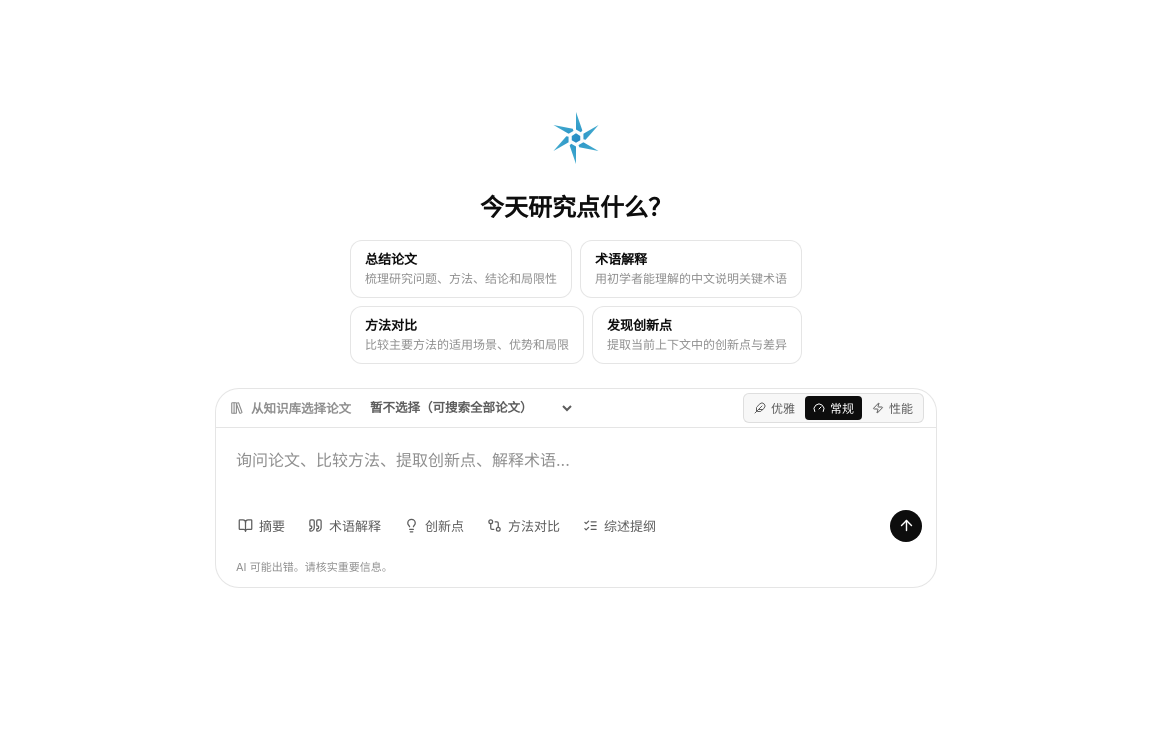
Test: ChatPage › renders GFM tables in assistant Markdown
The image size is (1152, 732).
Type "比较三篇论文" into the text box with placeholder "询问论文、比较方法、提取创新点、解释术语..." at (576, 469), box [216,428,936,510]
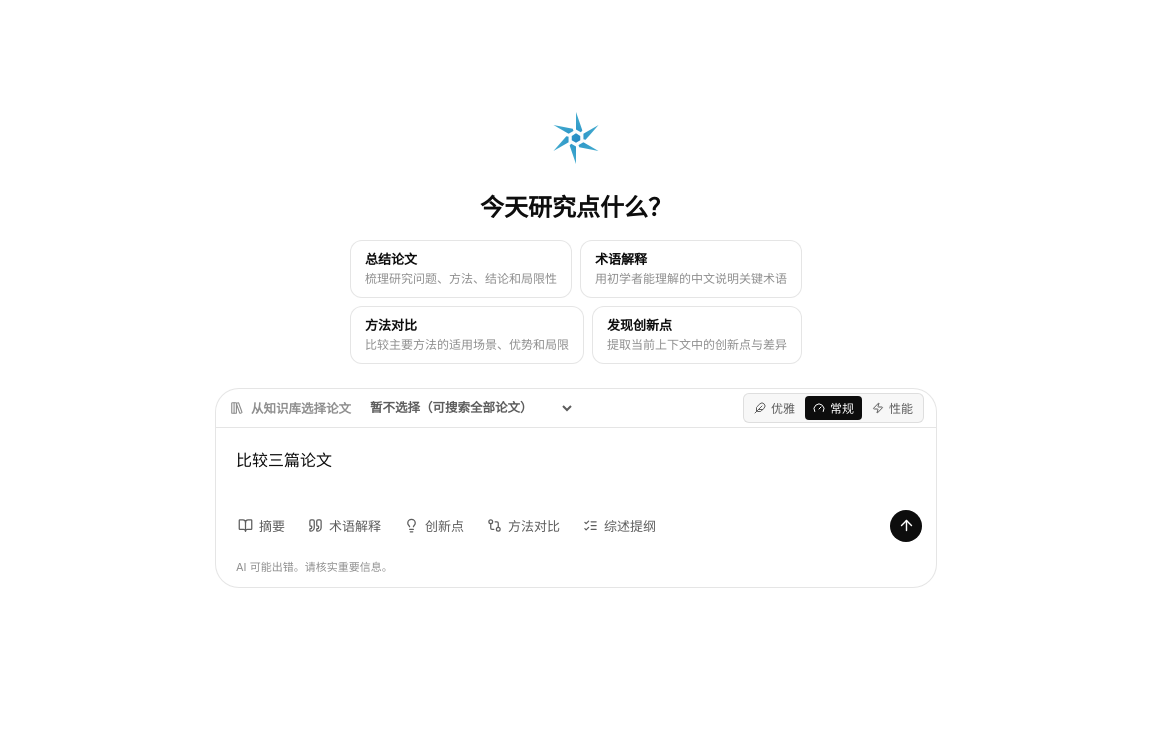
Click the button named "发送" at (906, 526), box [890,510,922,542]
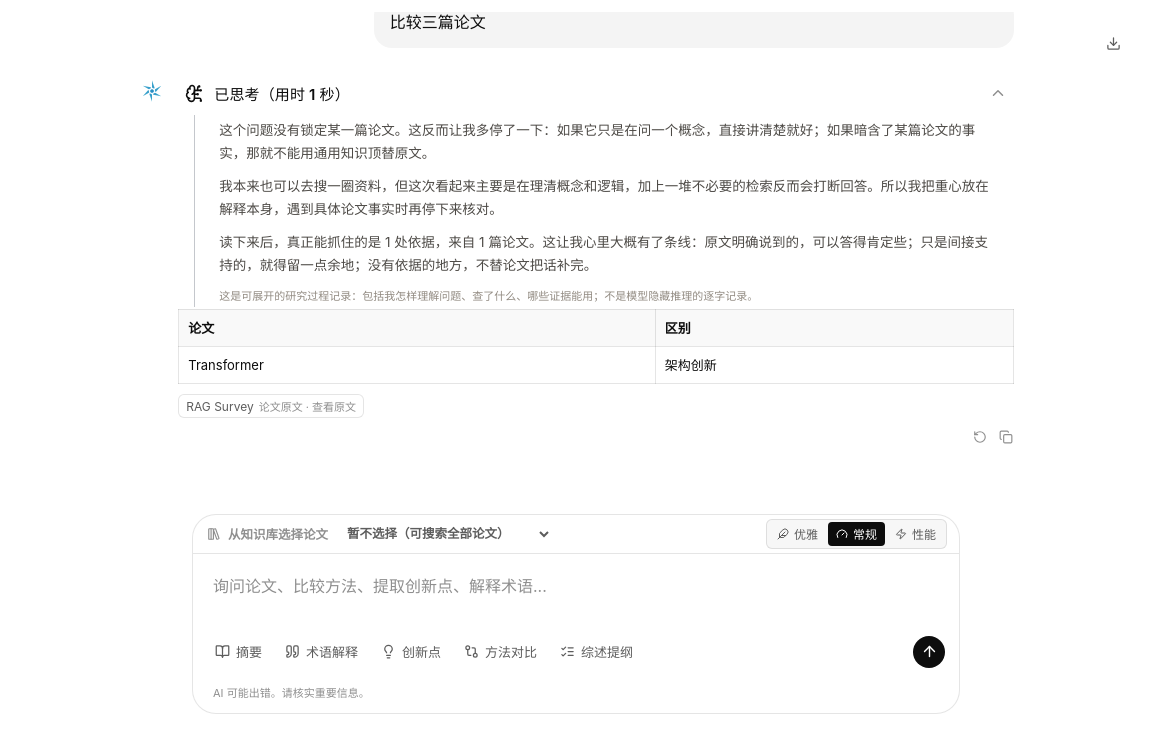
Expected: the cell "架构创新" is shown, [655,346,1013,384]
Expected: the table is shown, [178,309,1014,384]
Expected: the column heading "论文" is shown, [179,309,655,346]
